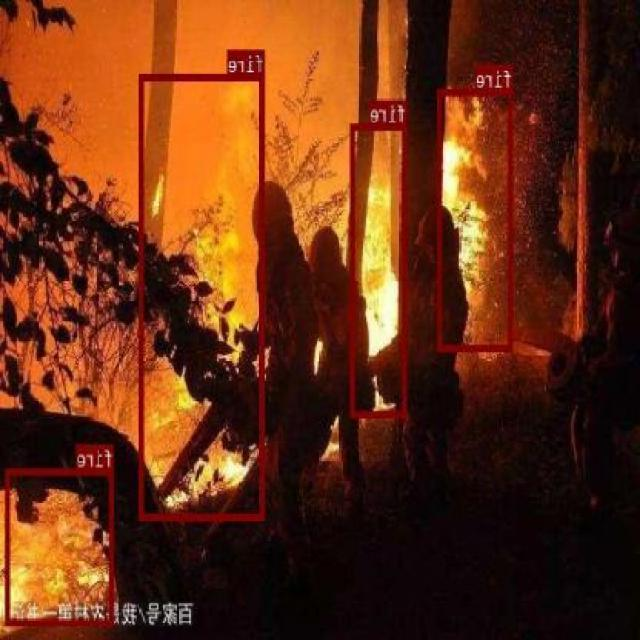Fire: (140, 73, 266, 519), (439, 87, 513, 350), (7, 468, 115, 624), (352, 122, 406, 416)
